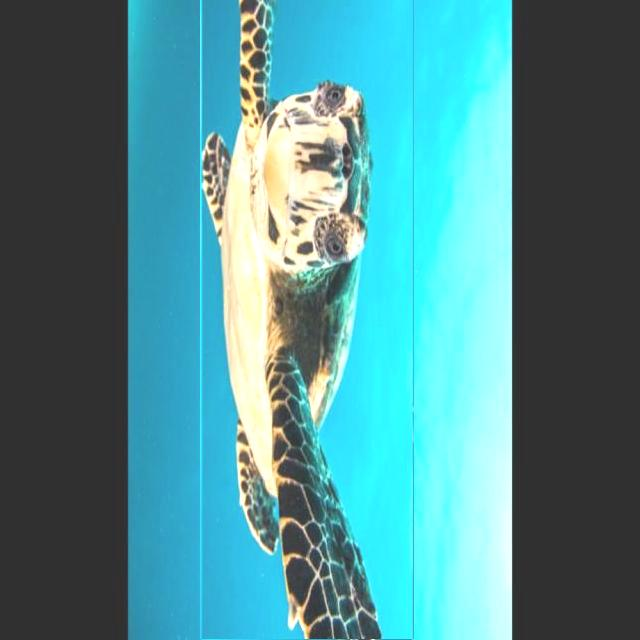Sea turtle: (200, 0, 414, 639)
